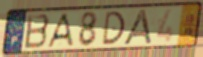4: (154, 7, 176, 45)
8: (79, 10, 100, 48)
A: (122, 8, 154, 46), (45, 12, 75, 49)
B: (23, 13, 51, 50)
D: (101, 10, 127, 46)
